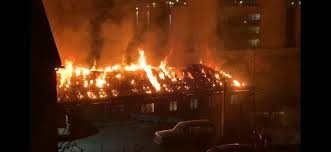fire: (51, 48, 251, 99)
